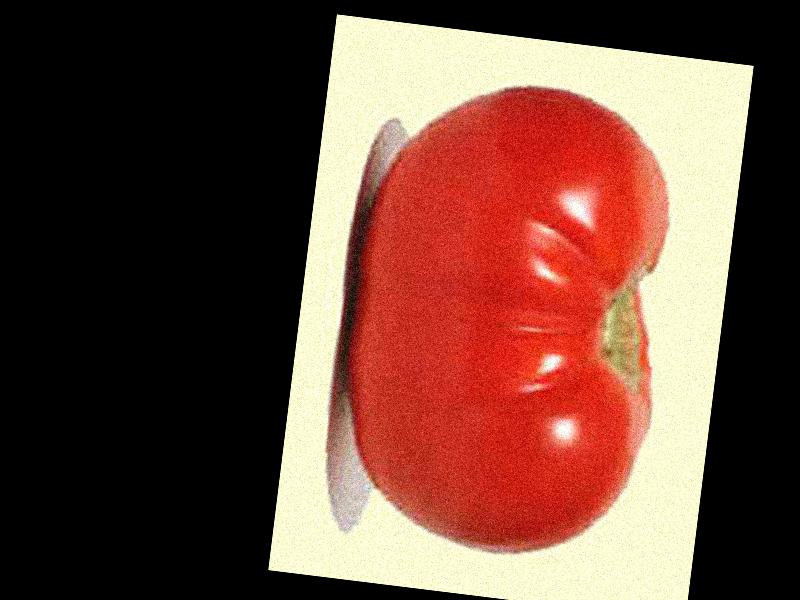Tomato: (328, 67, 689, 567)
